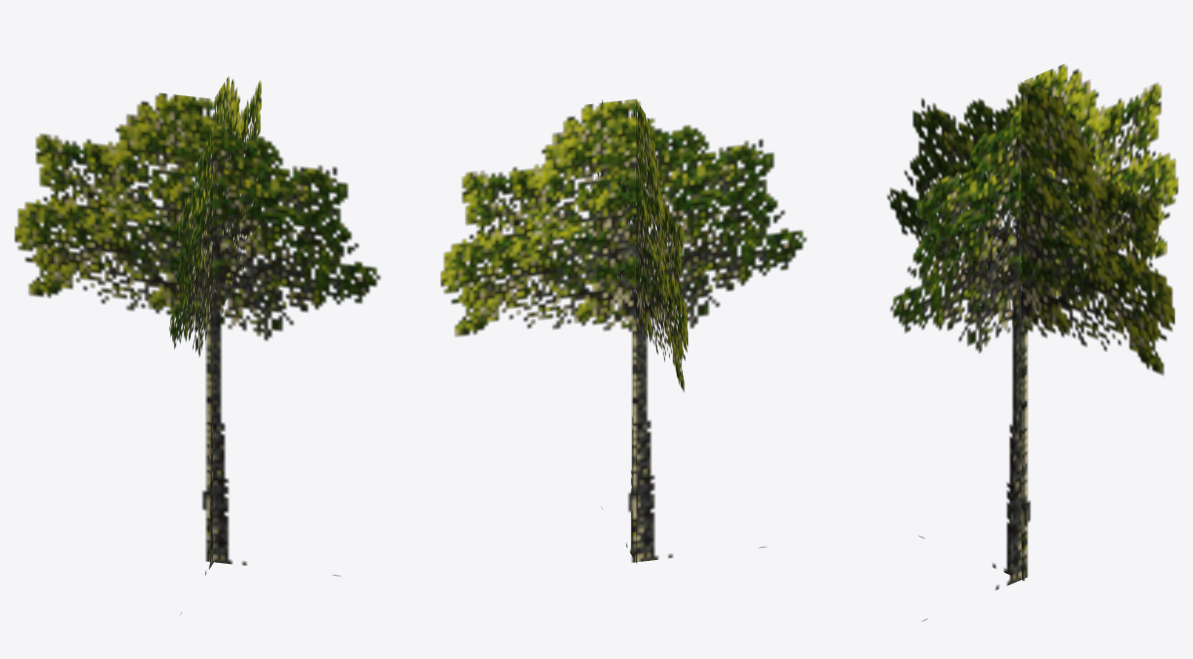
Rendered from tree087.glb.
The picture shows the model from 3 angles, left to right: view 1: azimuth 30°, elevation 25°; view 2: azimuth 150°, elevation 25°; view 3: azimuth 270°, elevation 25°; orthographic projection. The views are drawn at different scales.
Parts seen in each view (by area): view 1: tree087; view 2: tree087; view 3: tree087.
Boxes of the visible parts, box(x1,y1,x2,y2) form: tree087: box(14, 76, 380, 614); tree087: box(440, 99, 806, 562); tree087: box(887, 64, 1178, 621).
Bounding box in the file's own units: 1.86 × 3.35 × 1.86.
Materials: 1 (1 with a texture image).
